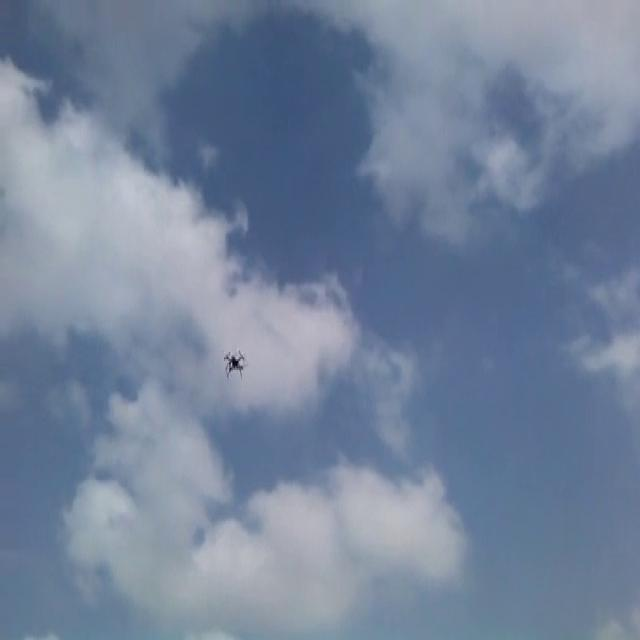drone: (220, 345, 247, 380)
